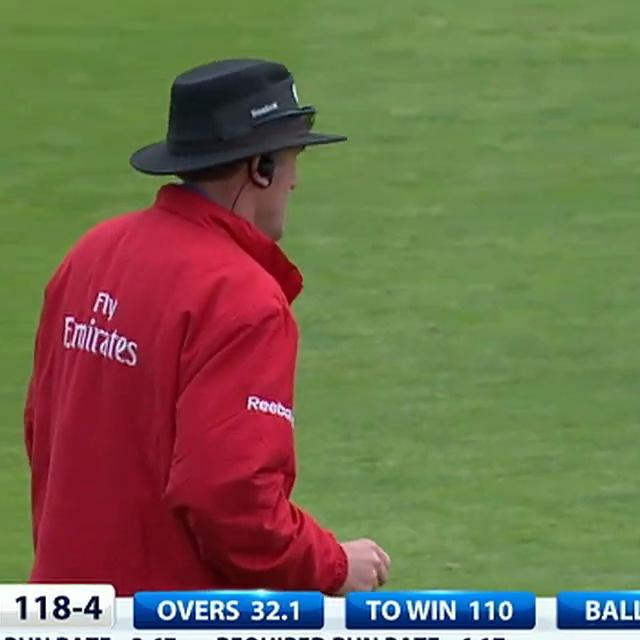umpire: (0, 23, 420, 591)
